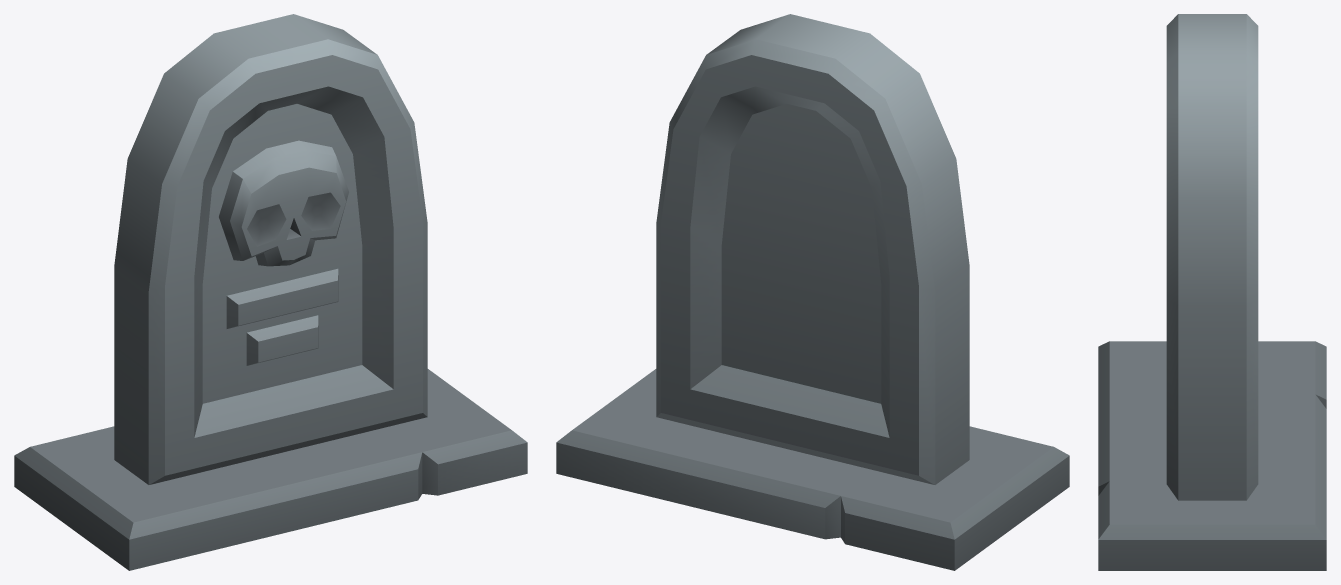
The model's file is grave_A.glb.
3 views of the same model, side by side, from view 1: azimuth 30°, elevation 25°; view 2: azimuth 150°, elevation 25°; view 3: azimuth 270°, elevation 25° (orthographic).
Visible parts, largest first — view 1: grave_A; view 2: grave_A; view 3: grave_A.
Boxes of the visible parts, bbox=[...] form: grave_A: bbox=[14, 14, 527, 570]; grave_A: bbox=[556, 14, 1069, 570]; grave_A: bbox=[1098, 14, 1326, 570].
Size of the model in its own units: 2 by 2.13 by 1.
Materials: 1 (1 with a texture image).
